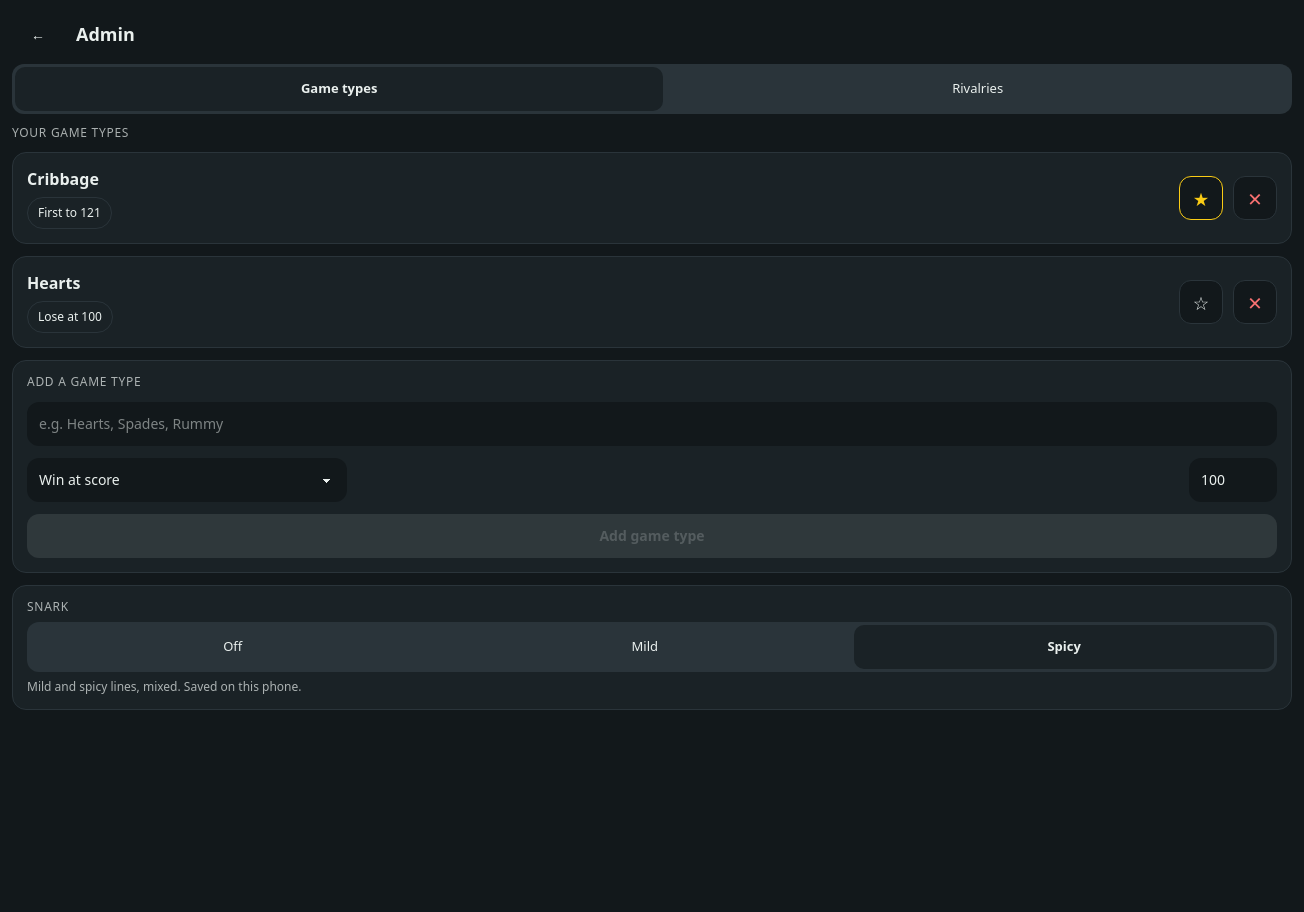
Test case: AdminPanel › confirms inline before deleting a game type
Click the button named "Delete Hearts" at x=1255, y=302, box [1233,280,1277,324]
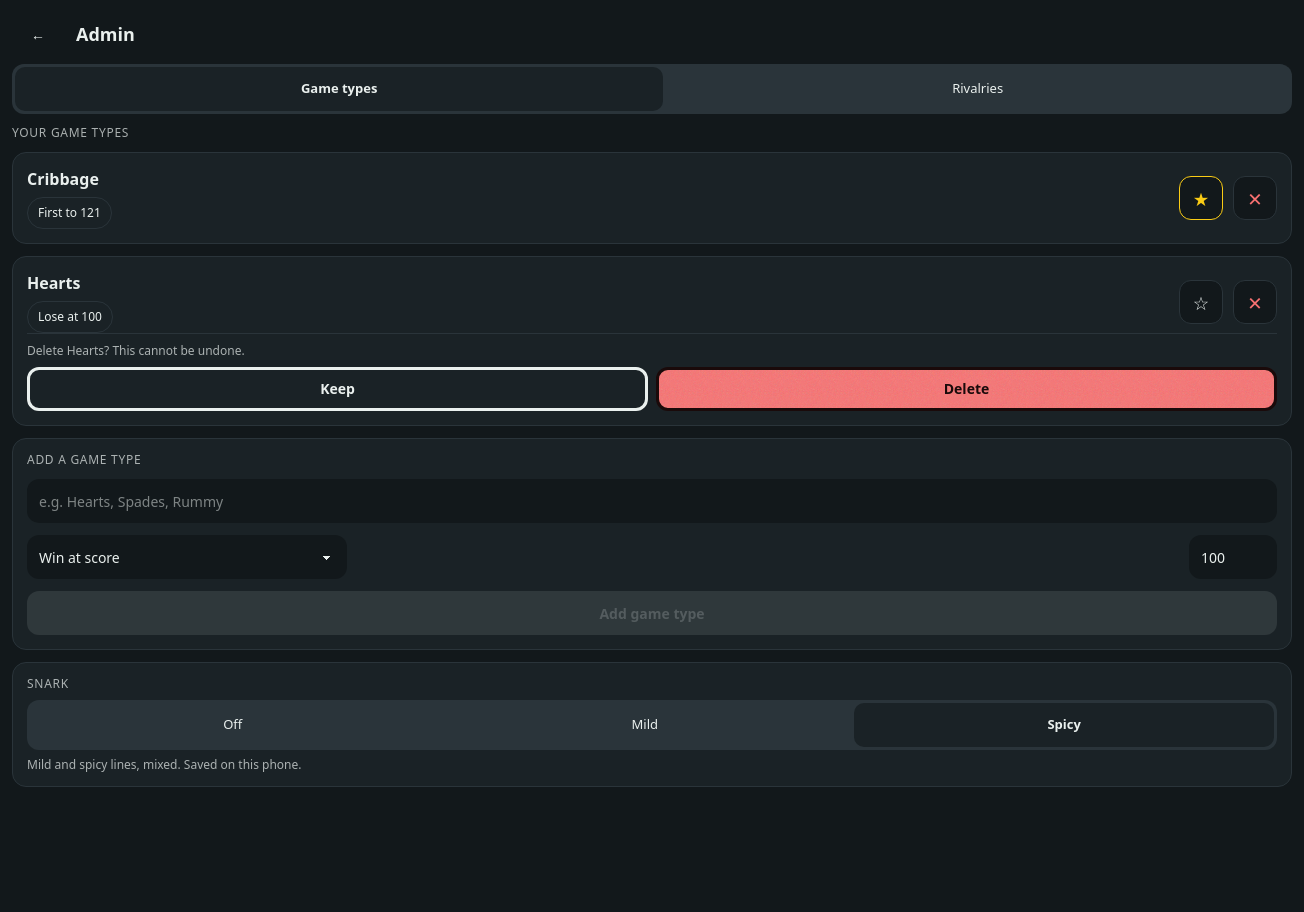
Expected: the text "Delete Hearts? This cannot be undone." is shown, [27,342,245,359]
Click the button "Keep" at x=338, y=389, box [27,367,648,411]
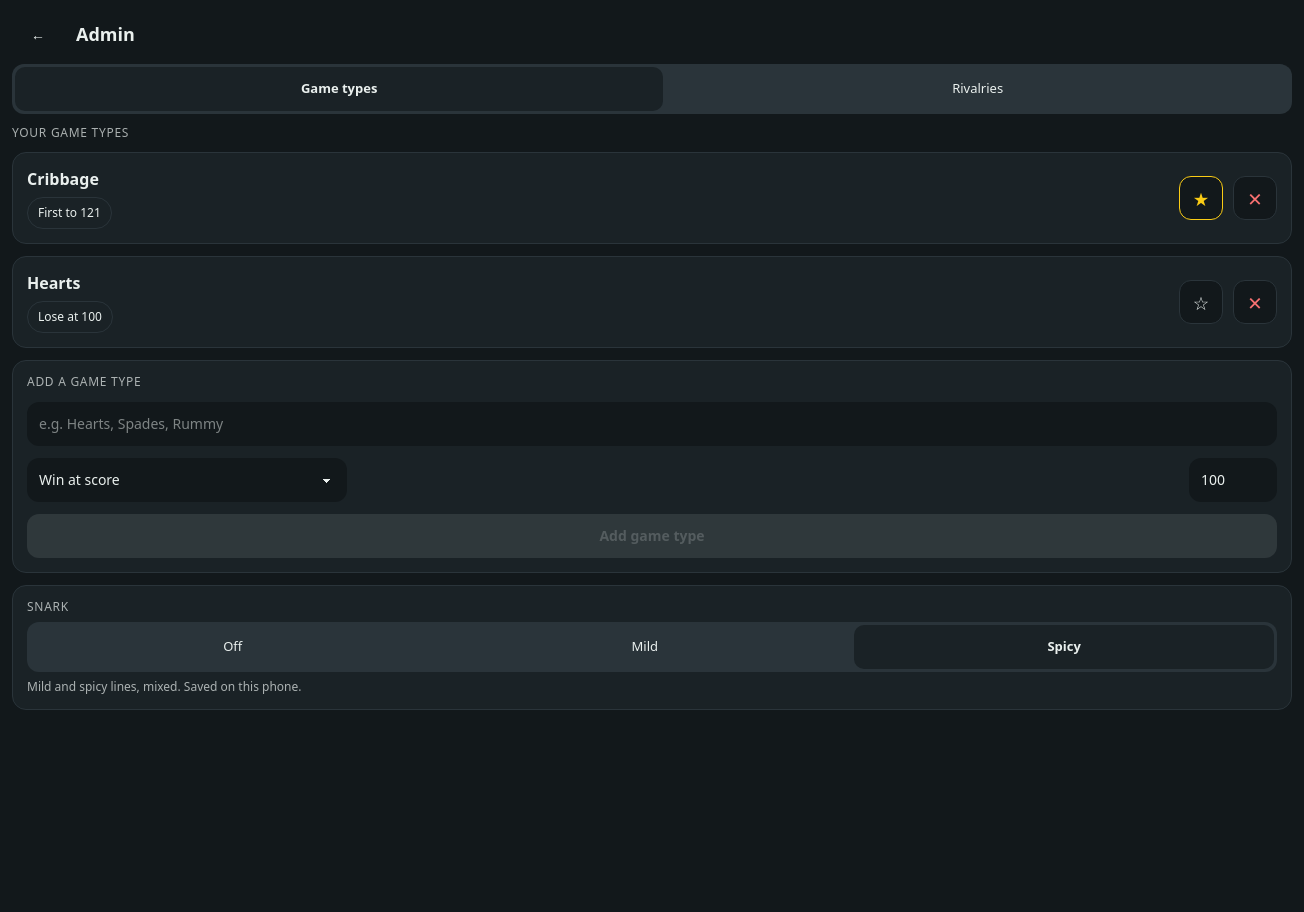
Expected: the text "Delete Hearts? This cannot be undone." is gone
